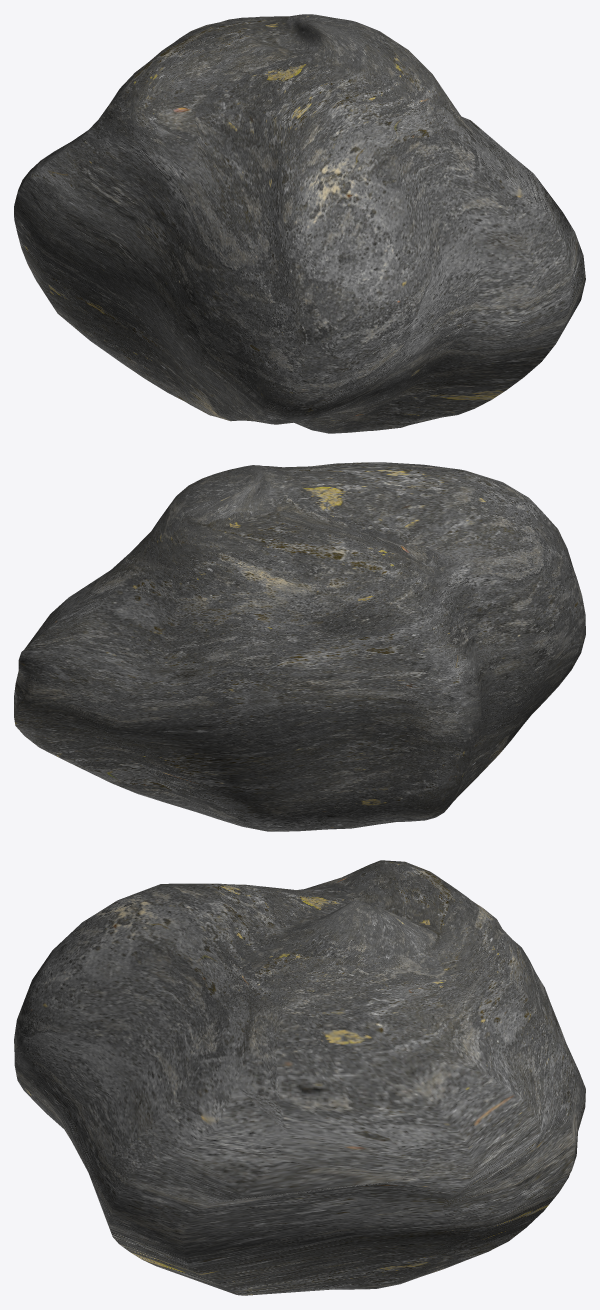
File: BigAsteroid2.fbx
3 views of the same model, one above another, from view 1: azimuth 30°, elevation 25°; view 2: azimuth 150°, elevation 25°; view 3: azimuth 270°, elevation 25° (orthographic). The views are drawn at different scales.
Visible parts, largest first — view 1: Sphere; view 2: Sphere; view 3: Sphere.
Boxes of the visible parts, box(x1,y1,x2,y2) form: Sphere: box(14, 14, 585, 433); Sphere: box(14, 462, 585, 831); Sphere: box(14, 860, 585, 1295).
Bounding box in the file's own units: 91.87 × 68.23 × 99.54.
1 material, 1 textured.
